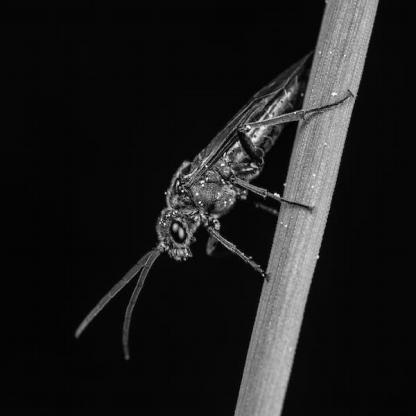sawfly: (74, 44, 358, 372)
